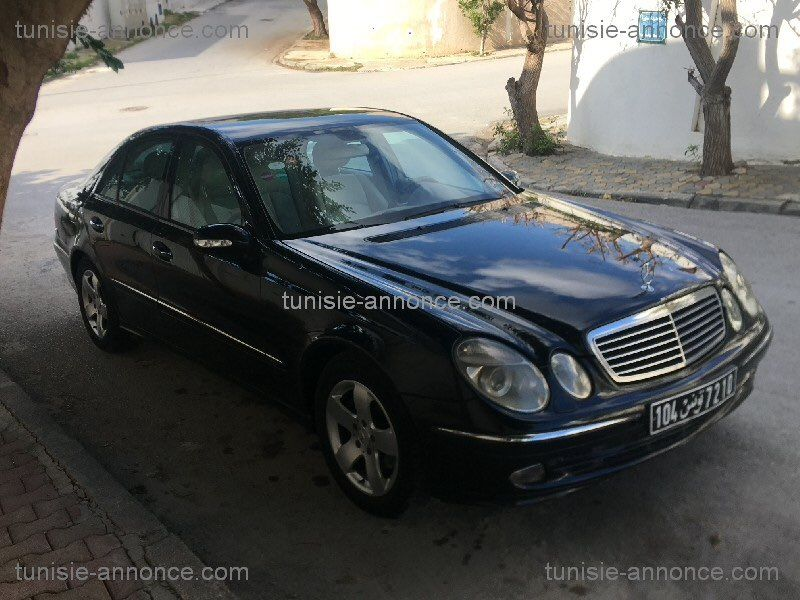LP: (647, 367, 739, 433)
